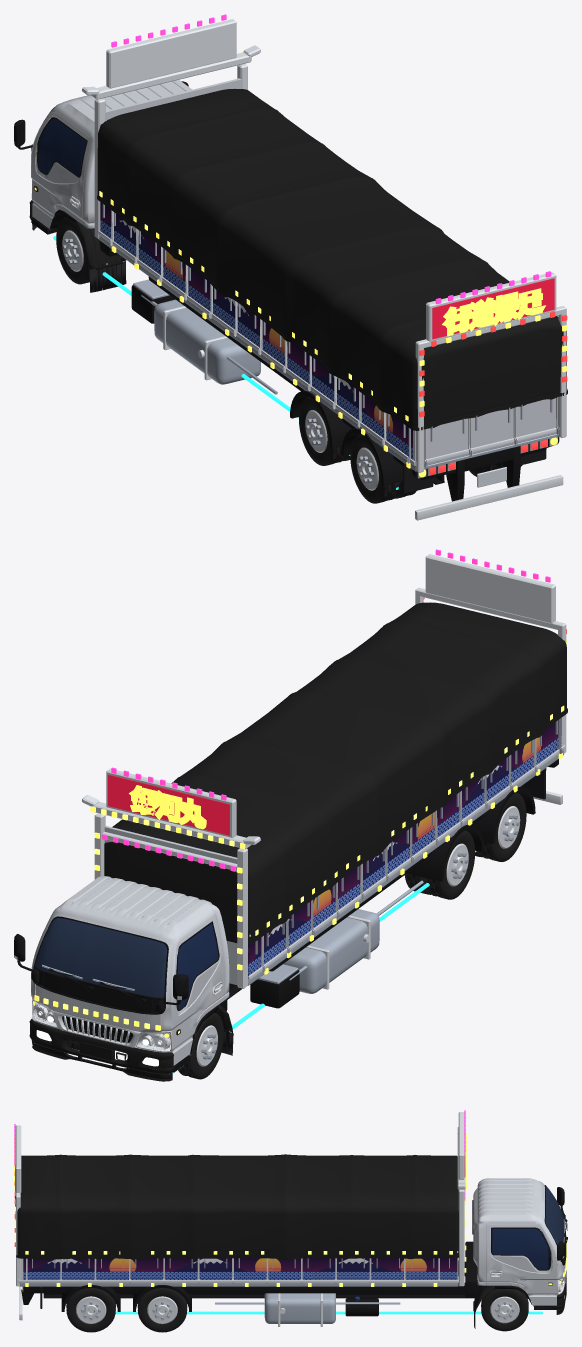
File: dekotora_truck_graneleira_curta.glb
3 views of the same model, one above another, from view 1: azimuth 30°, elevation 25°; view 2: azimuth 150°, elevation 25°; view 3: azimuth 270°, elevation 25° (orthographic). The views are drawn at different scales.
Visible parts, largest first — view 1: truck_plastic_trim, truck_chrome, truck_paint_white_panel, truck_steel, truck_mural, truck_plastic_black, truck_lamp_amber, wheel_r_L_1.5_1.06, truck_glass, wheel_r_L_3.0_1.06, truck_andon_panel, wheel_f_L (+3 smaller); view 2: truck_plastic_trim, truck_chrome, truck_paint_white_panel, truck_plastic_black, truck_mural, truck_steel, truck_glass_wind, truck_lamp_amber, truck_andon_panel, wheel_r_L_3.0_1.06, wheel_r_L_1.5_1.06, wheel_f_L (+3 smaller); view 3: truck_plastic_trim, truck_mural, truck_plastic_black, truck_paint_white_panel, truck_chrome, truck_steel, wheel_r_R_3.0_1.06, wheel_r_R_1.5_1.06, wheel_f_R, truck_glass, truck_lamp_cyan, truck_lamp_amber (+2 smaller).
Boxes of the visible parts, x1=… form: truck_plastic_trim: x1=29, y1=88, x2=567, y2=430; truck_chrome: x1=31, y1=19, x2=566, y2=520; truck_paint_white_panel: x1=31, y1=78, x2=555, y2=459; truck_steel: x1=99, y1=204, x2=559, y2=478; truck_mural: x1=100, y1=202, x2=415, y2=464; truck_plastic_black: x1=14, y1=81, x2=559, y2=501; truck_lamp_amber: x1=34, y1=52, x2=567, y2=477; wheel_r_L_1.5_1.06: x1=350, y1=434, x2=400, y2=503; truck_glass: x1=39, y1=118, x2=86, y2=176; wheel_r_L_3.0_1.06: x1=299, y1=396, x2=346, y2=465; truck_andon_panel: x1=432, y1=278, x2=554, y2=339; wheel_f_L: x1=56, y1=217, x2=90, y2=284; truck_plastic_trim: x1=29, y1=602, x2=567, y2=1081; truck_chrome: x1=15, y1=554, x2=566, y2=1052; truck_paint_white_panel: x1=31, y1=826, x2=237, y2=1065; truck_plastic_black: x1=14, y1=759, x2=558, y2=1072; truck_mural: x1=248, y1=718, x2=561, y2=978; truck_steel: x1=42, y1=718, x2=563, y2=1032; truck_glass_wind: x1=35, y1=918, x2=167, y2=997; truck_lamp_amber: x1=33, y1=639, x2=566, y2=1037; truck_andon_panel: x1=108, y1=774, x2=229, y2=835; wheel_r_L_3.0_1.06: x1=424, y1=830, x2=474, y2=899; wheel_r_L_1.5_1.06: x1=479, y1=792, x2=526, y2=861; wheel_f_L: x1=178, y1=1012, x2=224, y2=1079; truck_plastic_trim: x1=15, y1=1154, x2=566, y2=1314; truck_mural: x1=23, y1=1258, x2=457, y2=1279; truck_plastic_black: x1=21, y1=1185, x2=567, y2=1316; truck_paint_white_panel: x1=457, y1=1178, x2=565, y2=1305; truck_chrome: x1=15, y1=1112, x2=566, y2=1326; truck_steel: x1=20, y1=1219, x2=565, y2=1323; wheel_r_R_3.0_1.06: x1=137, y1=1288, x2=187, y2=1332; wheel_r_R_1.5_1.06: x1=66, y1=1288, x2=115, y2=1332; wheel_f_R: x1=481, y1=1285, x2=528, y2=1331; truck_glass: x1=492, y1=1228, x2=548, y2=1269; truck_lamp_cyan: x1=115, y1=1311, x2=542, y2=1314; truck_lamp_amber: x1=14, y1=1129, x2=566, y2=1289.
Size of the model in its own units: 2.94 by 4.15 by 11.65.
21 materials, 6 textured.
